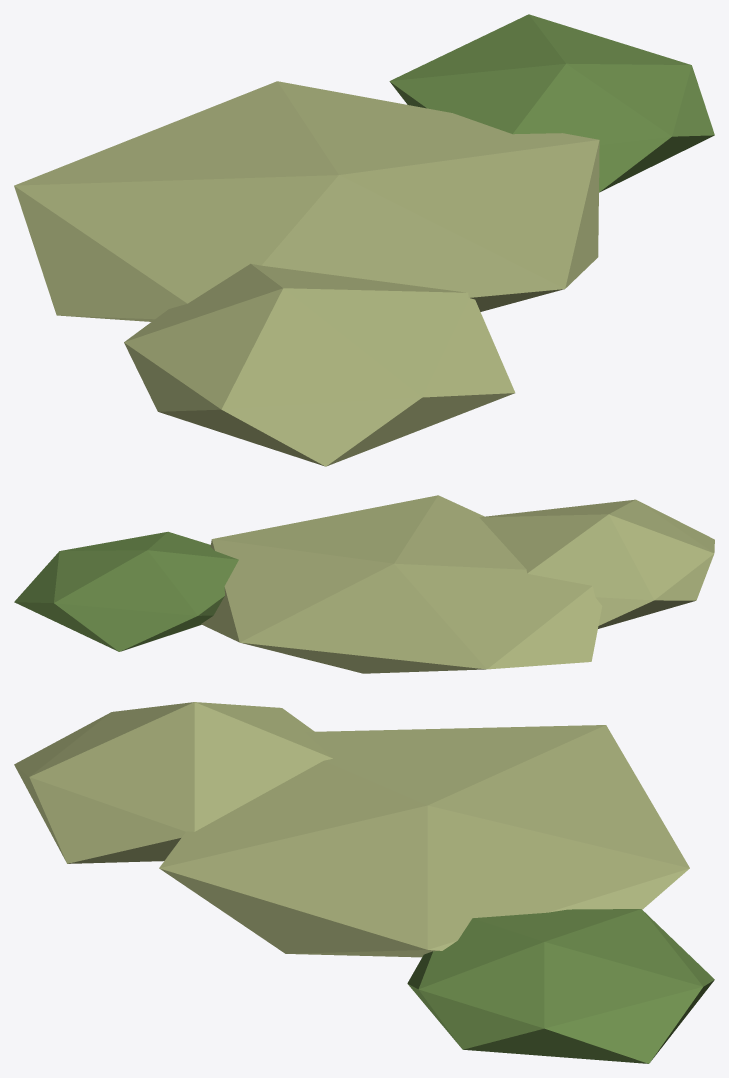
The model's file is lichen.glb.
3 renders of one model, top to bottom at view 1: azimuth 30°, elevation 25°; view 2: azimuth 150°, elevation 25°; view 3: azimuth 270°, elevation 25°, orthographic. The views are drawn at different scales.
Visible parts, largest first — view 1: lichen; view 2: lichen; view 3: lichen.
Boxes of the visible parts, left/top/right/bottom form: lichen: left=14, top=14, right=714, bottom=466; lichen: left=14, top=495, right=714, bottom=673; lichen: left=14, top=702, right=714, bottom=1063.
Size of the model in its own units: 1.01 by 0.1304 by 0.9018.
Materials: 1 (1 with a texture image).
